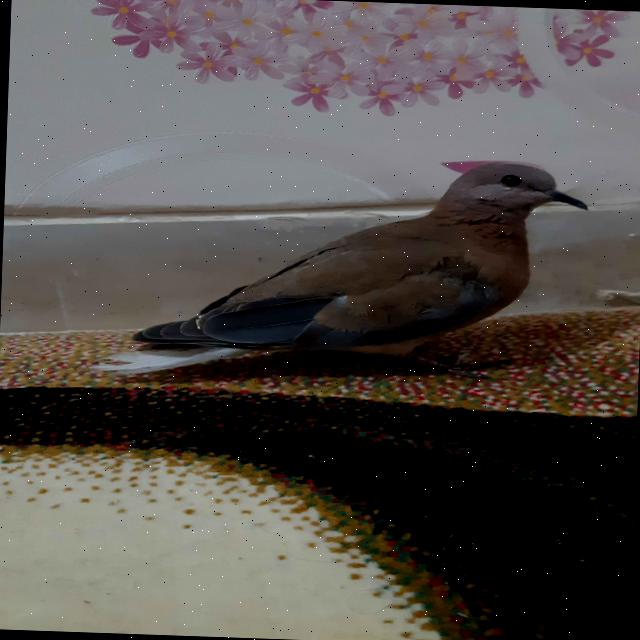dove: (94, 127, 597, 406)
